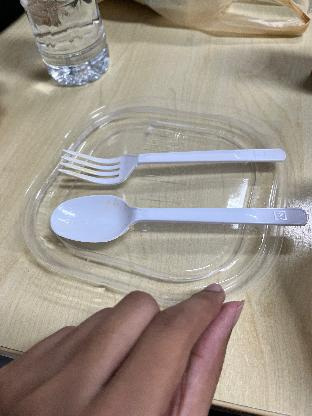Others: (50, 193, 312, 252), (58, 140, 288, 184)
